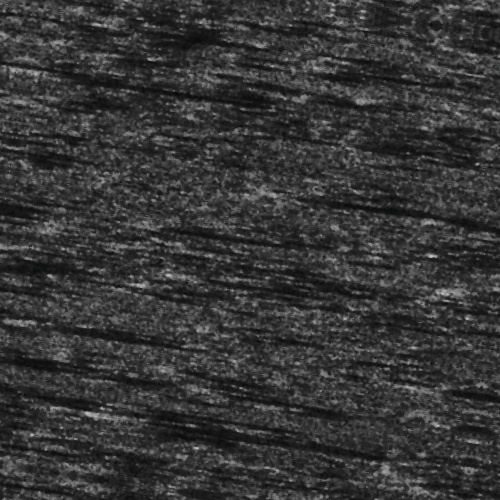object: (233, 179, 326, 196), (249, 53, 354, 64), (0, 383, 45, 398), (406, 353, 479, 360), (9, 347, 62, 356), (297, 78, 350, 87), (59, 43, 122, 50), (177, 281, 230, 288), (129, 417, 182, 424), (118, 430, 181, 435), (118, 236, 171, 239)
shadow: (279, 179, 485, 196), (323, 78, 500, 87), (36, 347, 203, 356), (0, 383, 90, 398), (149, 430, 395, 435), (302, 53, 403, 64), (91, 43, 243, 50), (155, 417, 296, 424), (204, 281, 311, 288), (0, 161, 24, 186), (442, 353, 500, 360), (145, 236, 278, 239), (0, 443, 26, 454), (0, 2, 46, 7)
